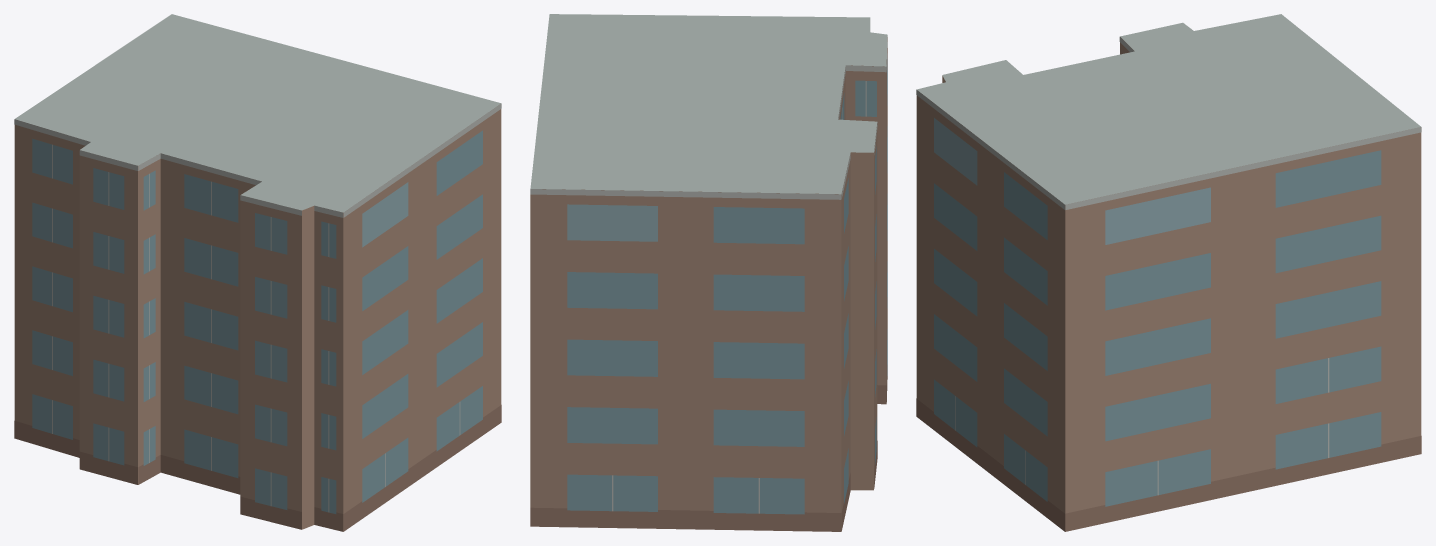
The model's file is survey-upis-32739007.glb.
3 renders of one model, left to right at view 1: azimuth 30°, elevation 25°; view 2: azimuth 150°, elevation 25°; view 3: azimuth 270°, elevation 25°, orthographic. The views are drawn at different scales.
Parts seen in each view (by area): view 1: survey-upis-32739007.tmp; view 2: survey-upis-32739007.tmp; view 3: survey-upis-32739007.tmp.
Part boxes in pixels (x1,y1,x2,y2): survey-upis-32739007.tmp: (14, 14, 501, 531); survey-upis-32739007.tmp: (530, 14, 887, 531); survey-upis-32739007.tmp: (916, 14, 1421, 531).
Bounding box in the file's own units: 18.14 × 14.5 × 20.3.
